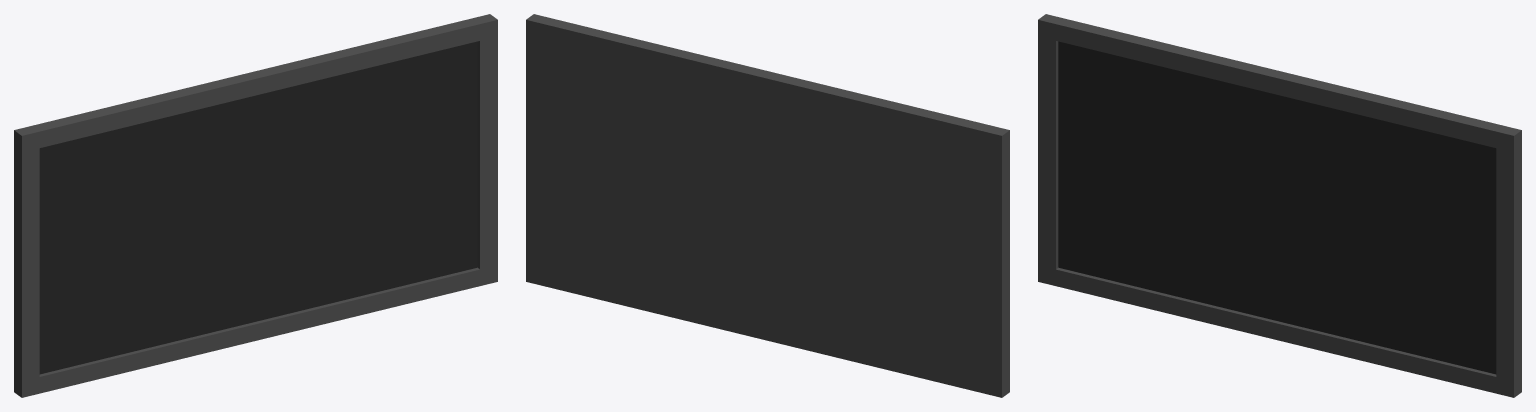
File: Itr_Obj_Monitor_LCD_Screen_Off_05.FBX
The picture shows the model from 3 angles, left to right: view 1: azimuth 30°, elevation 25°; view 2: azimuth 150°, elevation 25°; view 3: azimuth 330°, elevation 25°; orthographic projection.
Parts seen in each view (by area): view 1: Itr_Obj_Monitor_LCD_Screen_Off_05; view 2: Itr_Obj_Monitor_LCD_Screen_Off_05; view 3: Itr_Obj_Monitor_LCD_Screen_Off_05.
Part boxes in pixels (box(x1,y1,x2,y2)): Itr_Obj_Monitor_LCD_Screen_Off_05: box(14, 14, 497, 397); Itr_Obj_Monitor_LCD_Screen_Off_05: box(526, 14, 1009, 397); Itr_Obj_Monitor_LCD_Screen_Off_05: box(1038, 14, 1521, 397).
Size of the model in its own units: 66.79 by 35.13 by 1.92.
